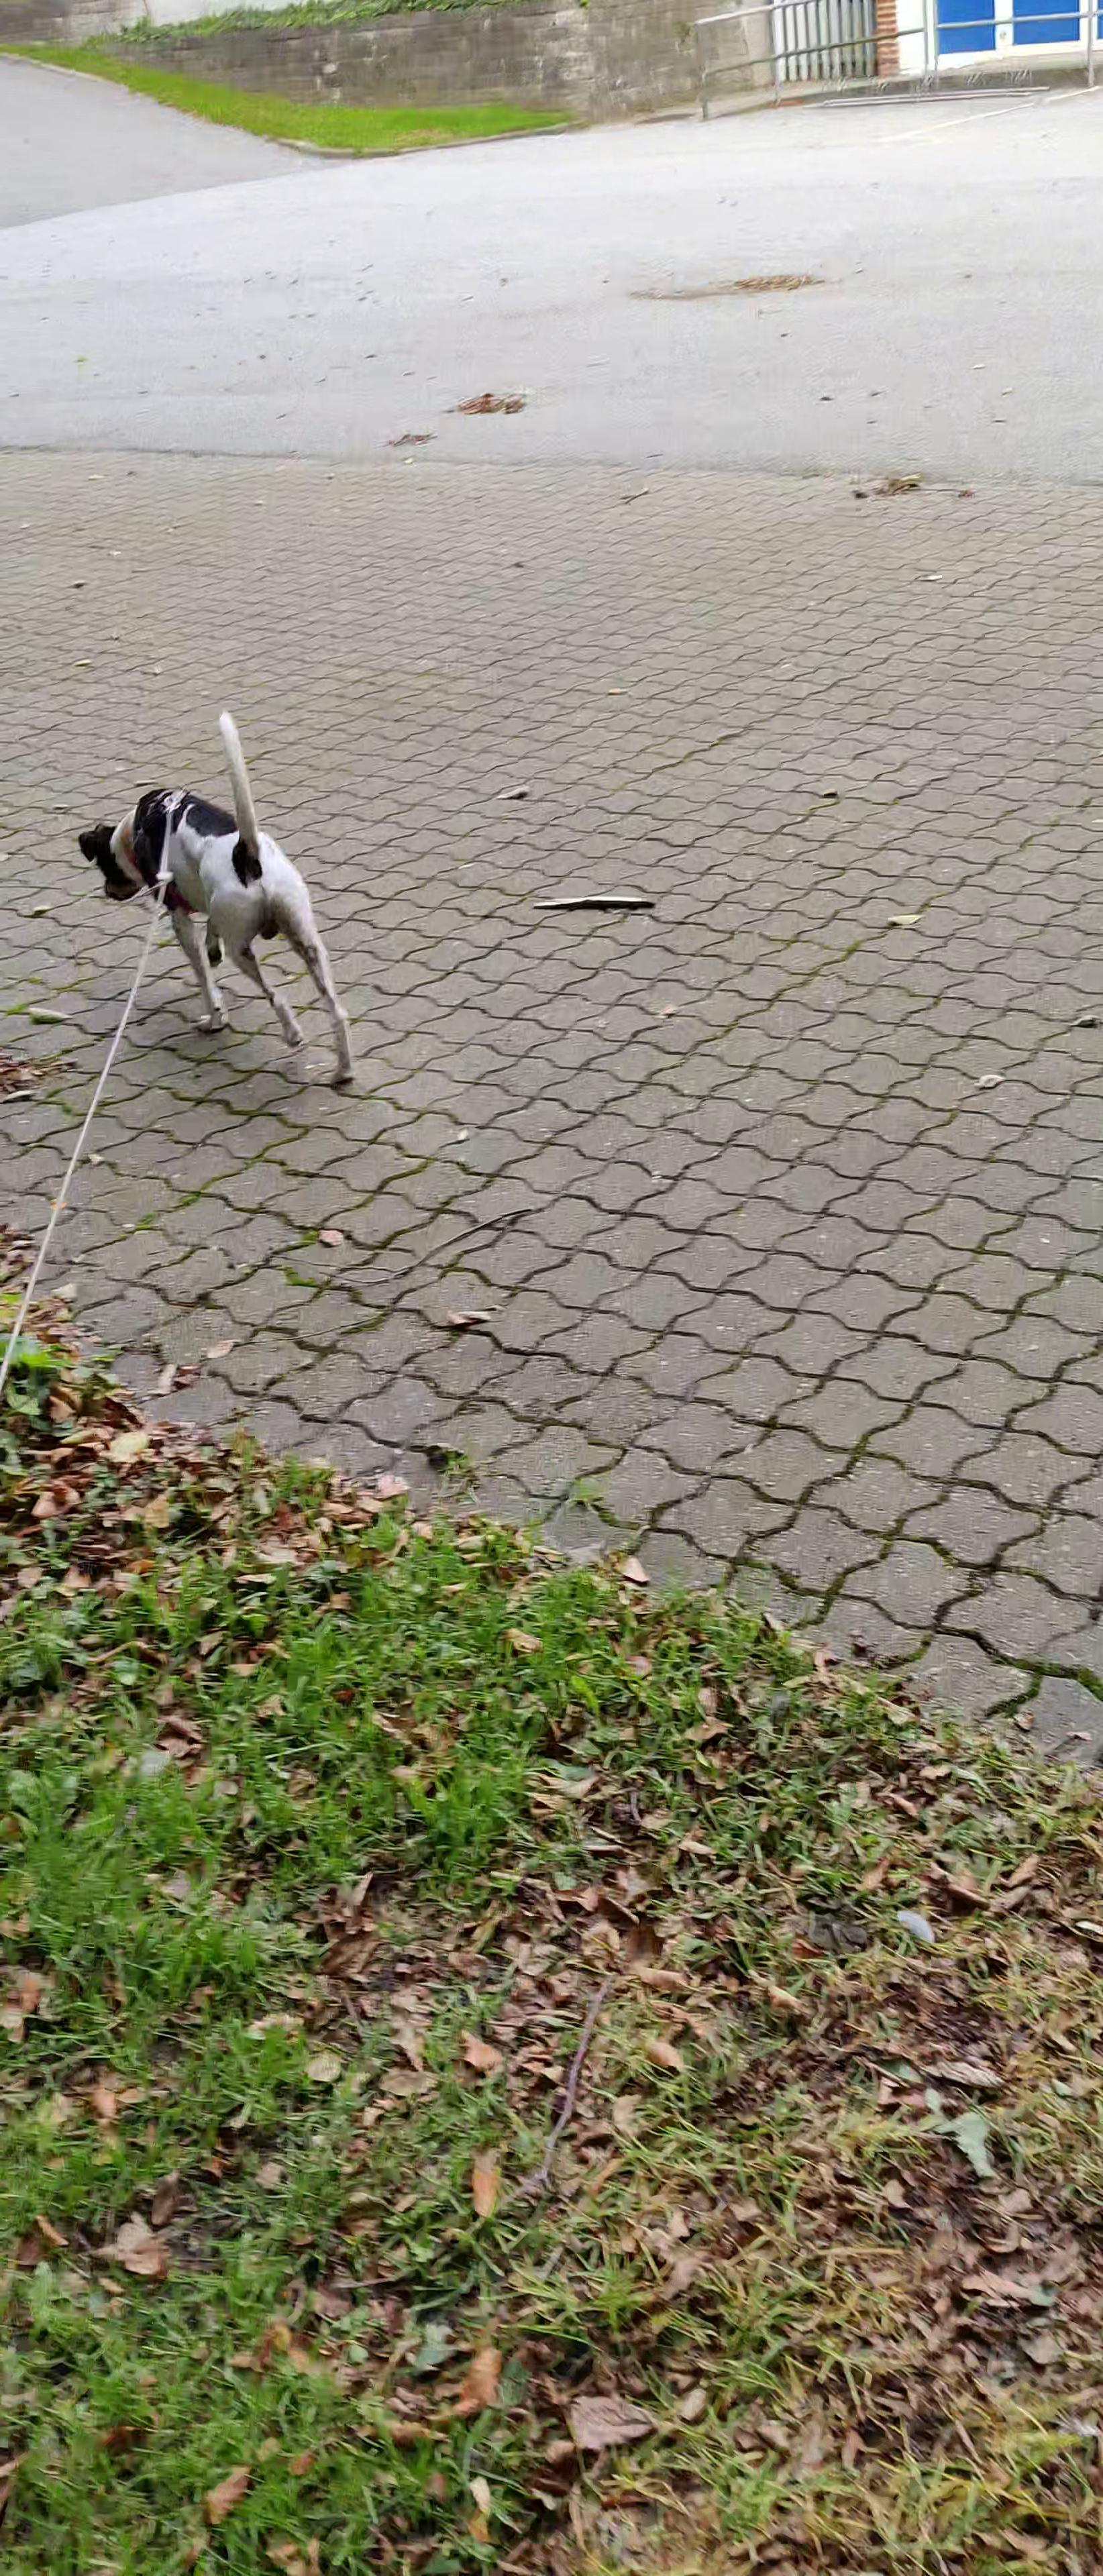Dog: (71, 703, 363, 1092)
